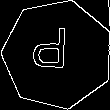P_S: (38, 29, 77, 81)
